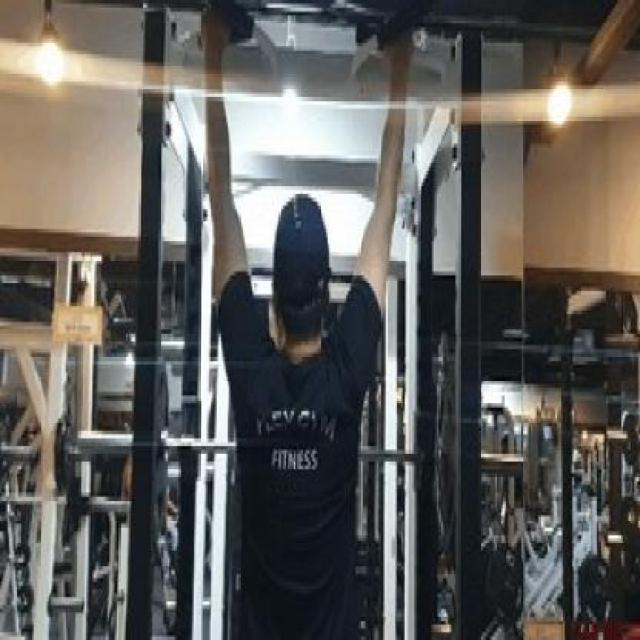Lat Pull Down: (114, 0, 472, 640)
